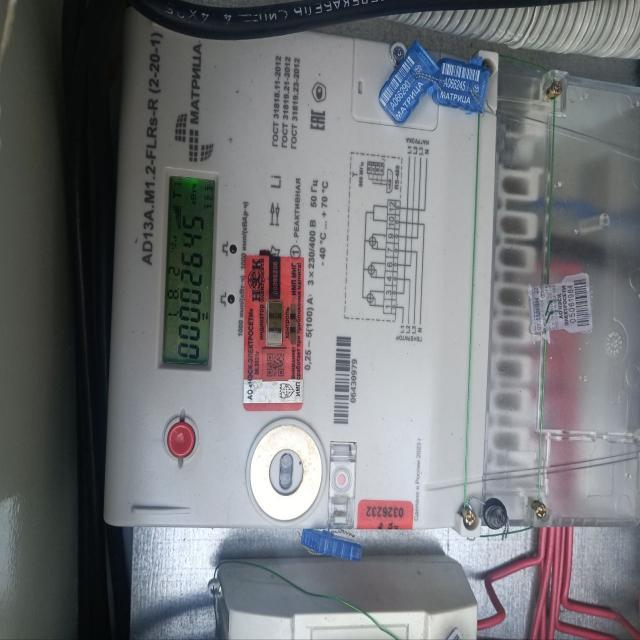Display: (164, 170, 218, 369)
meter_matrica: (115, 0, 608, 570)
meter_number: (329, 327, 359, 435)
seal_elso: (520, 266, 596, 353)
seal_imp: (242, 254, 305, 412)
